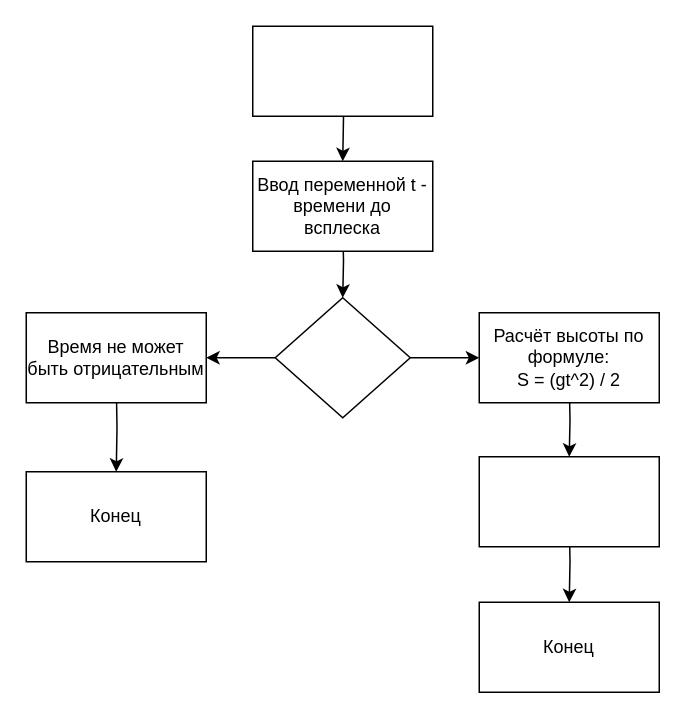
The diagram is 686 pixels wide and 719 high, and some of its shapes have lost their labels. Here are the shapes that lost their labels. From the top down, the centre of each, then its label:
At (342,70): "Старт".
At (342,357): "t < 0?".
At (568,501): "Вывод высоты на экран".
